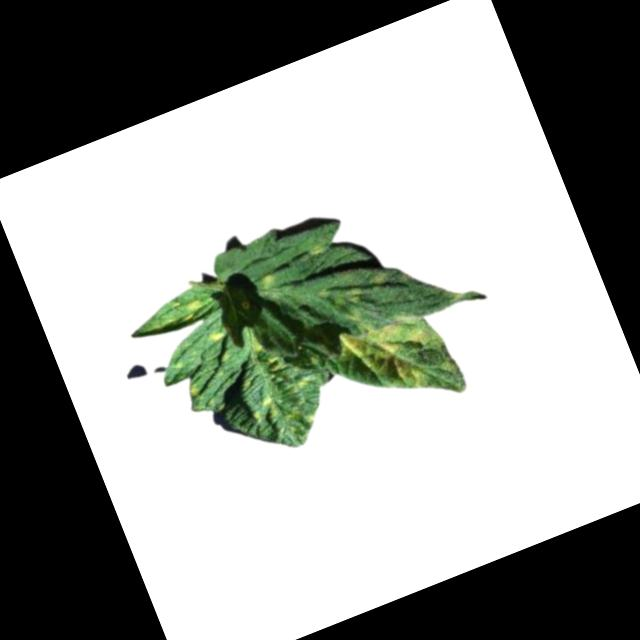Leaf_Mold: (334, 298, 457, 411), (222, 326, 327, 448), (315, 266, 400, 334), (172, 293, 207, 327), (261, 270, 279, 295), (204, 328, 225, 347)
